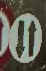Two way: (9, 14, 42, 63)
